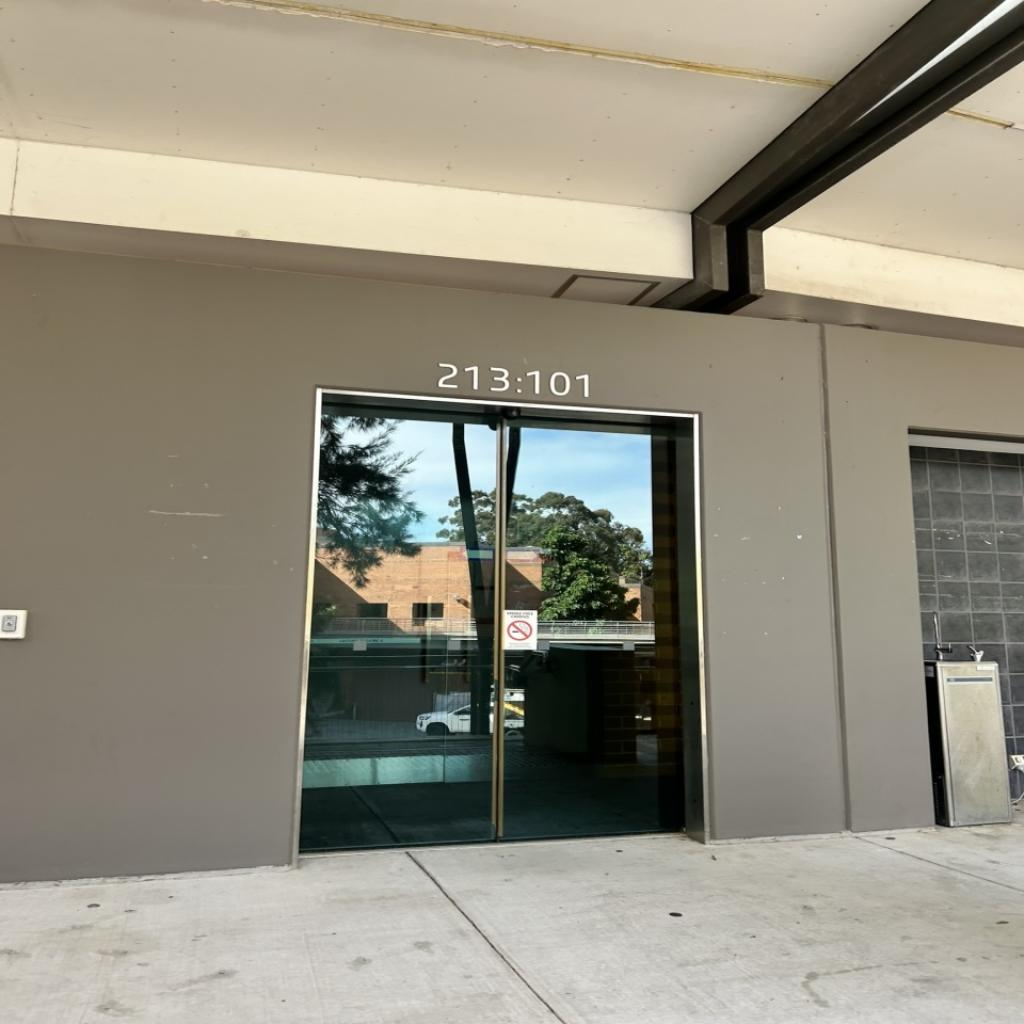BuildingCodes: (436, 362, 512, 392), (524, 368, 592, 400)
